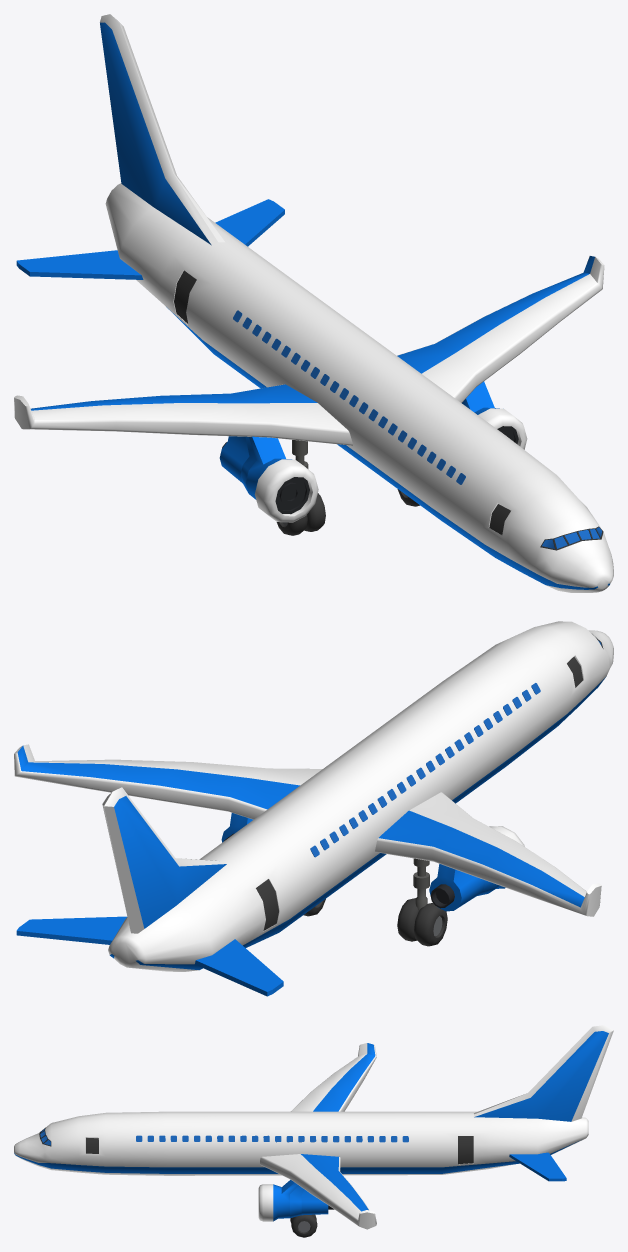
File: Boeing_2.fbx
3 views of the same model, one above another, from view 1: azimuth 30°, elevation 25°; view 2: azimuth 150°, elevation 25°; view 3: azimuth 270°, elevation 25° (orthographic). The views are drawn at different scales.
Parts seen in each view (by area): view 1: Boeing_2; view 2: Boeing_2; view 3: Boeing_2.
Part boxes in pixels (x1=…): Boeing_2: x1=14, y1=14, x2=613, y2=592; Boeing_2: x1=14, y1=621, x2=613, y2=996; Boeing_2: x1=14, y1=1025, x2=613, y2=1237.
Size of the model in its own units: 1903 by 1004 by 2855.
